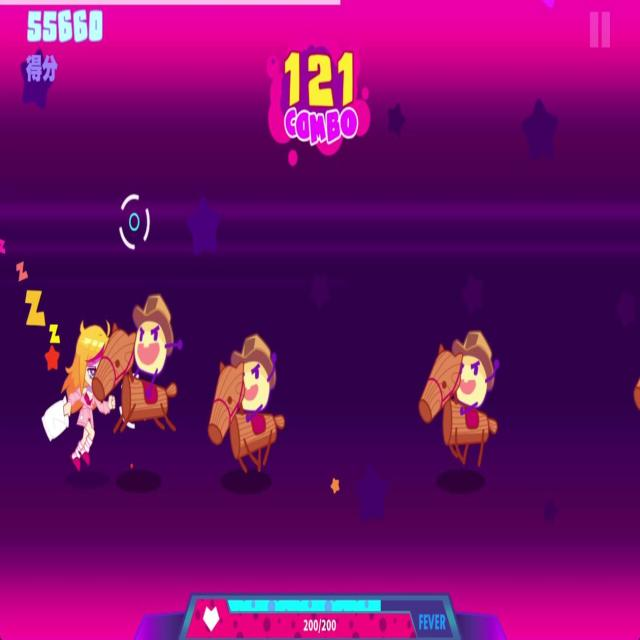qiu: (91, 286, 183, 436), (203, 329, 288, 481), (418, 328, 501, 474)
